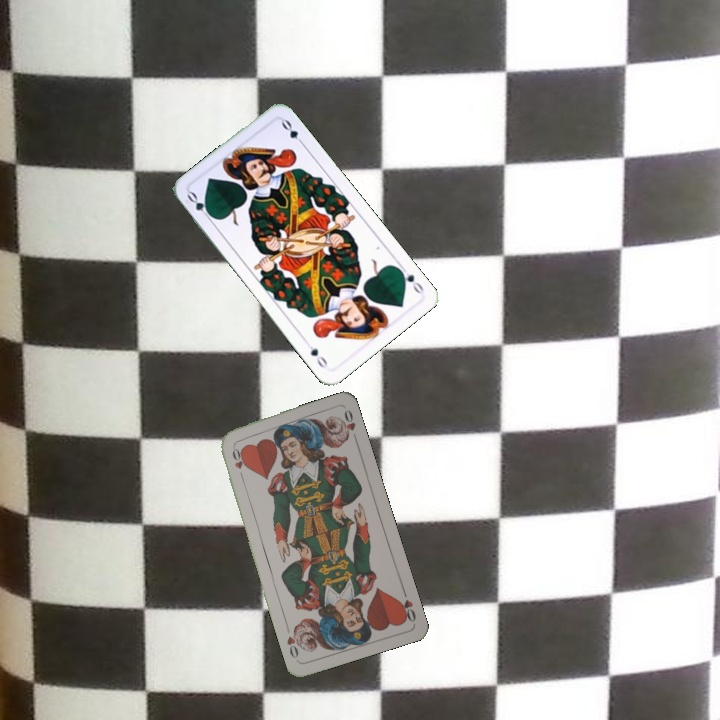GO: (183, 188, 217, 223), (393, 264, 426, 296)
HO: (395, 585, 418, 625), (228, 442, 246, 482)
